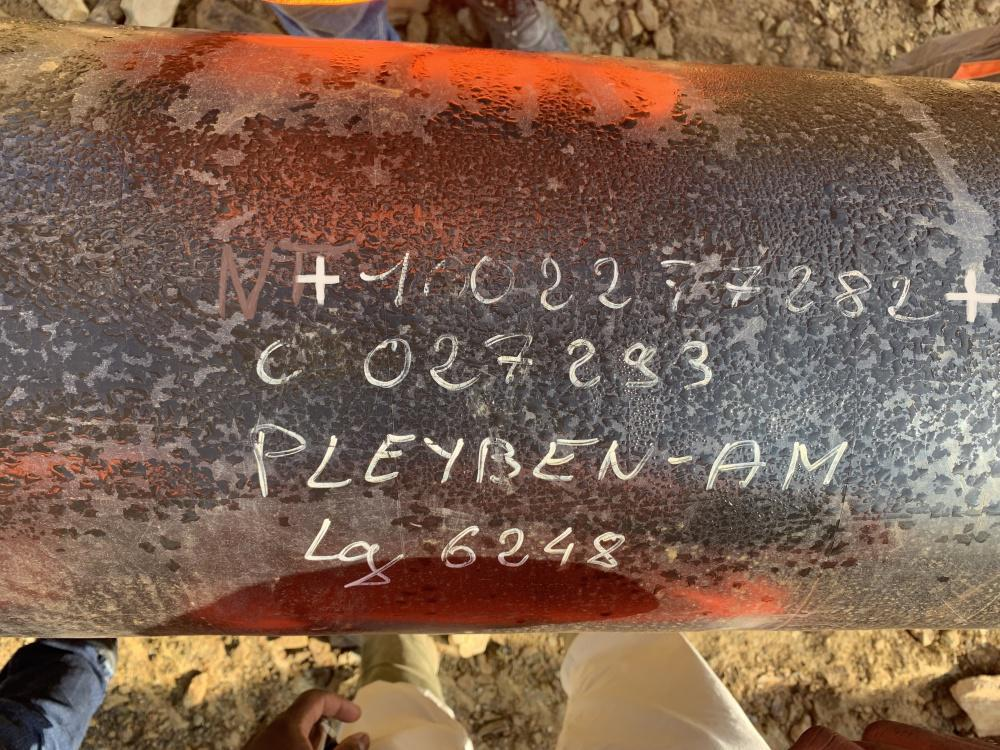+: (944, 268, 999, 320), (292, 253, 342, 303)
0: (356, 334, 412, 390), (472, 254, 518, 308), (422, 254, 471, 304), (258, 340, 304, 386)
1: (360, 246, 414, 306)
2: (428, 331, 480, 394), (888, 272, 942, 326), (536, 256, 578, 316), (590, 256, 634, 312), (563, 338, 599, 390), (494, 528, 534, 569), (788, 265, 814, 316)
3: (678, 338, 714, 387)
4: (547, 526, 575, 571)
6: (439, 523, 480, 568)
7: (485, 326, 538, 389), (661, 256, 700, 312), (722, 264, 763, 309)
8: (832, 269, 870, 318), (588, 529, 624, 572)
9: (624, 340, 660, 391)
A: (704, 438, 765, 490)
B: (477, 437, 520, 484)
E: (536, 436, 597, 483), (366, 430, 413, 489)
L: (305, 433, 353, 491)
M: (784, 443, 846, 491)
N: (599, 438, 652, 482)
P: (254, 424, 304, 498)
Y: (424, 434, 464, 482)
